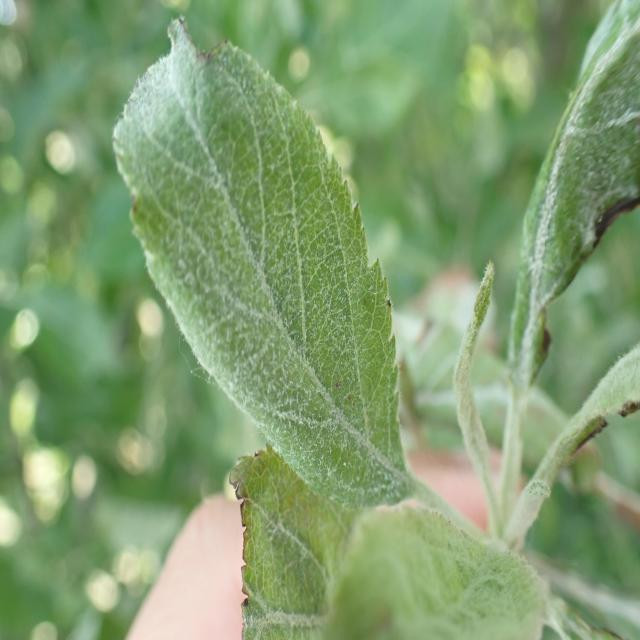Powdery_mildew: (104, 0, 439, 499), (494, 0, 640, 586), (207, 465, 434, 640), (314, 506, 554, 640), (497, 344, 634, 568), (454, 258, 496, 548)
